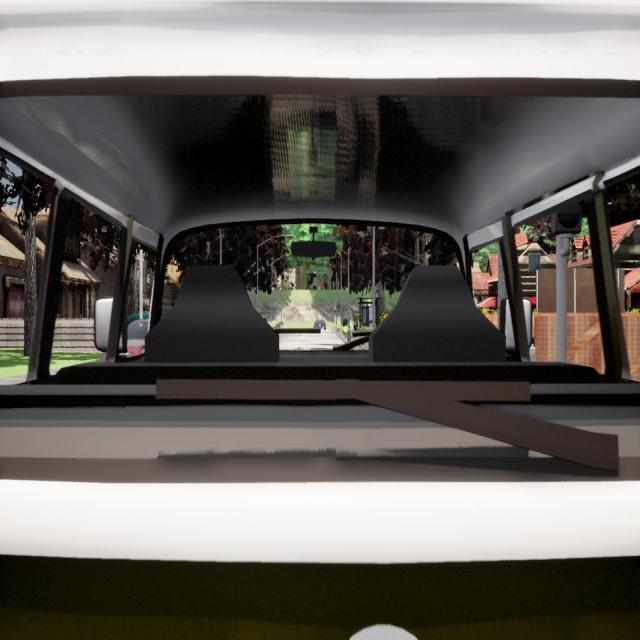Vehicle: (0, 0, 640, 638), (313, 319, 326, 331)
traffic_light: (554, 195, 581, 235), (138, 260, 148, 294), (334, 306, 336, 314)
